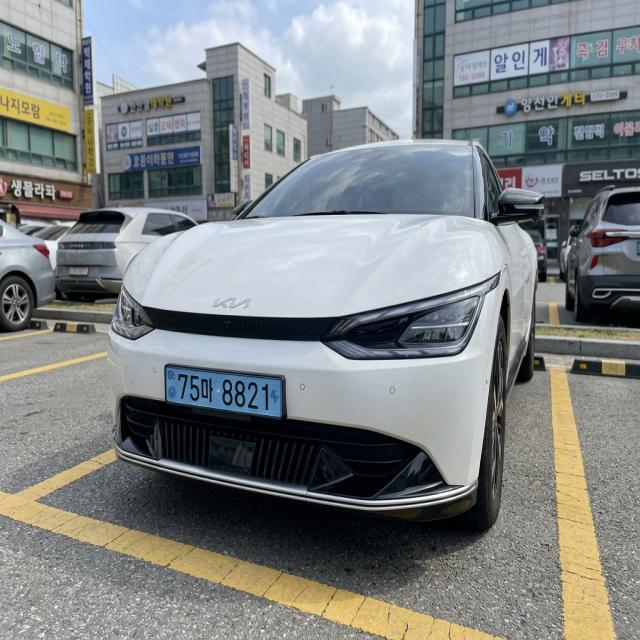car: (151, 354, 305, 429)
carev: (267, 373, 285, 423), (163, 367, 177, 405)
